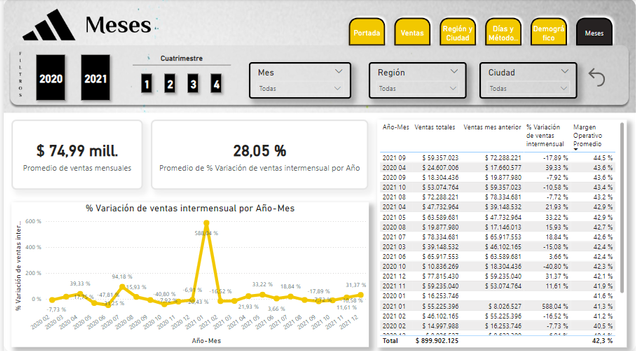

The page's visual inventory and layout, read from the dashboard file:
{"tool":"powerbi","page":{"name":"Meses","canvas":[1280,720],"ordinal":5},"visuals":[{"type":"tableEx","fields":{"Values":["Calendario.Año-Mes","Medidas.Ventas totales","Medidas.Ventas mes anterior","Medidas.% Variación de ventas intermensual","Medidas.Margen Operativo Promedio"]},"box":[755.4,243.8,513.1,460.6],"z":0},{"type":"lineChart","fields":{"Y":["Medidas.% Variación de ventas intermensual"],"Category":["Calendario.Año-Mes"]},"box":[15.2,411.4,723,292.9],"z":1000},{"type":"pageNavigator","box":[688.8,28.3,552.8,75.1],"z":2000},{"type":"advancedSlicerVisual","fields":{"Values":["Calendario.Año"]},"box":[48.3,94.8,184.5,127.6],"z":3000},{"type":"slicer","fields":{"Values":["Calendario.Mes"]},"box":[496.6,127.6,206.9,74.1],"z":4000},{"type":"advancedSlicerVisual","fields":{"Values":["Calendario.Cuatrimestre"]},"box":[261.3,112,198.7,94.7],"z":5000},{"type":"slicer","fields":{"Values":["Region.region"]},"box":[737.9,127.6,198.3,74.1],"z":6000},{"type":"slicer","fields":{"Values":["Ciudad.ciudad"]},"box":[962.1,127.6,198.3,74.1],"z":7000},{"type":"card","fields":{"Values":["Medidas.Promedio de ventas mensuales"]},"box":[15.2,243.8,265.8,142.2],"z":8000},{"type":"card","fields":{"Values":["Medidas.Promedio de % Variación de ventas intermensual por Año"]},"box":[298,243.8,440.2,142.2],"z":9000},{"type":"actionButton","box":[1174.4,133.6,67.6,49.5],"z":10000}]}

Visuals, with their boxes in screenshot pixels (x1, y1, x2, y2), scaled from the page's 1280x720 canvas onto the 636x351 screenshot:
tableEx - Calendario.Año-Mes x Medidas.Ventas totales: <region>375, 119, 630, 343</region>
lineChart - Medidas.% Variación de ventas intermensual x Calendario.Año-Mes: <region>8, 201, 367, 343</region>
pageNavigator: <region>342, 14, 617, 50</region>
advancedSlicerVisual - Calendario.Año: <region>24, 46, 116, 108</region>
slicer - Calendario.Mes: <region>247, 62, 350, 98</region>
advancedSlicerVisual - Calendario.Cuatrimestre: <region>130, 55, 229, 101</region>
slicer - Region.region: <region>367, 62, 465, 98</region>
slicer - Ciudad.ciudad: <region>478, 62, 577, 98</region>
card - Medidas.Promedio de ventas mensuales: <region>8, 119, 140, 188</region>
card - Medidas.Promedio de % Variación de ventas intermensual por Año: <region>148, 119, 367, 188</region>
actionButton: <region>584, 65, 617, 89</region>
